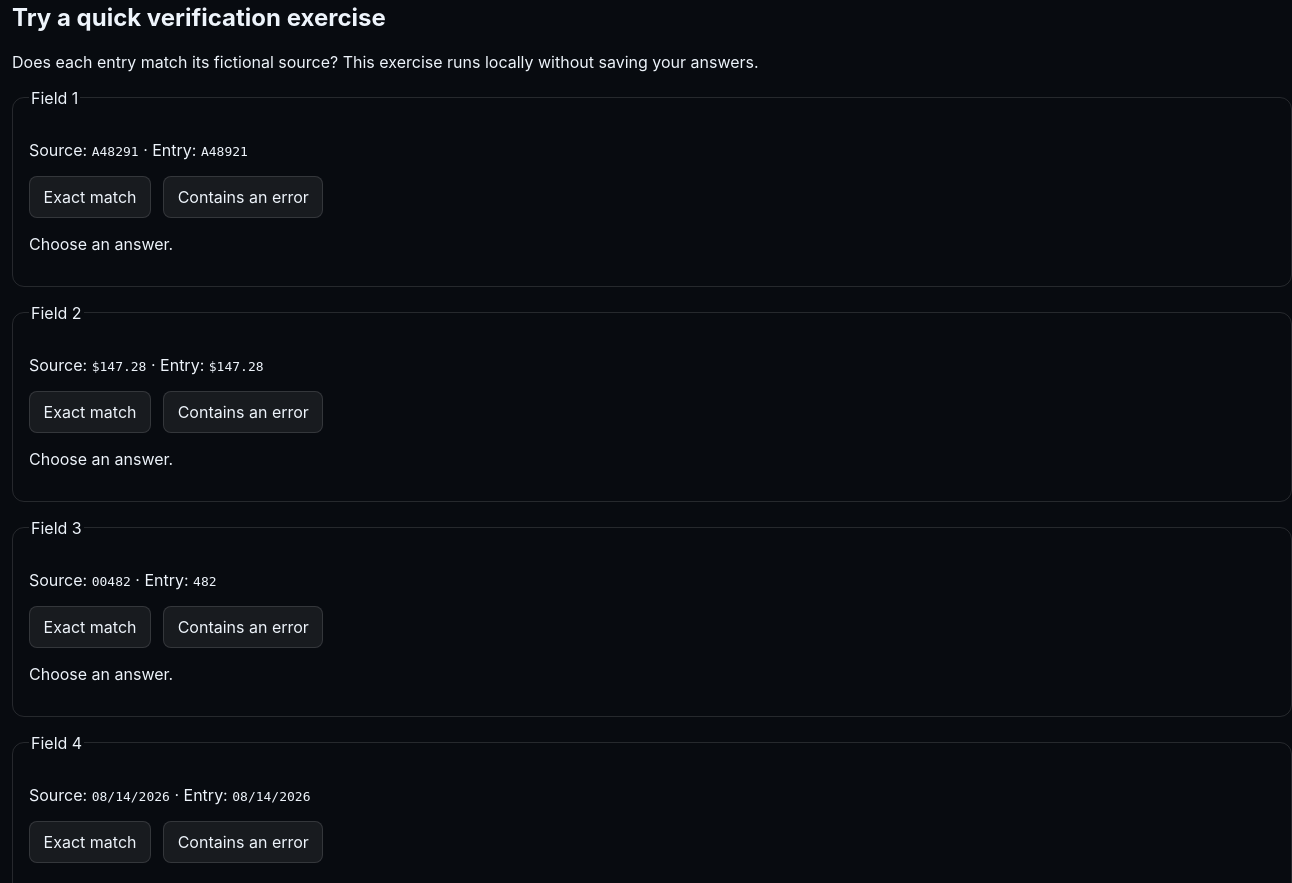
it: content and assessment flows › gives feedback and resets verification practice
Click the button "Contains an error" below "A48291" at (243, 197), box [163, 176, 324, 218]
(page scrolled)
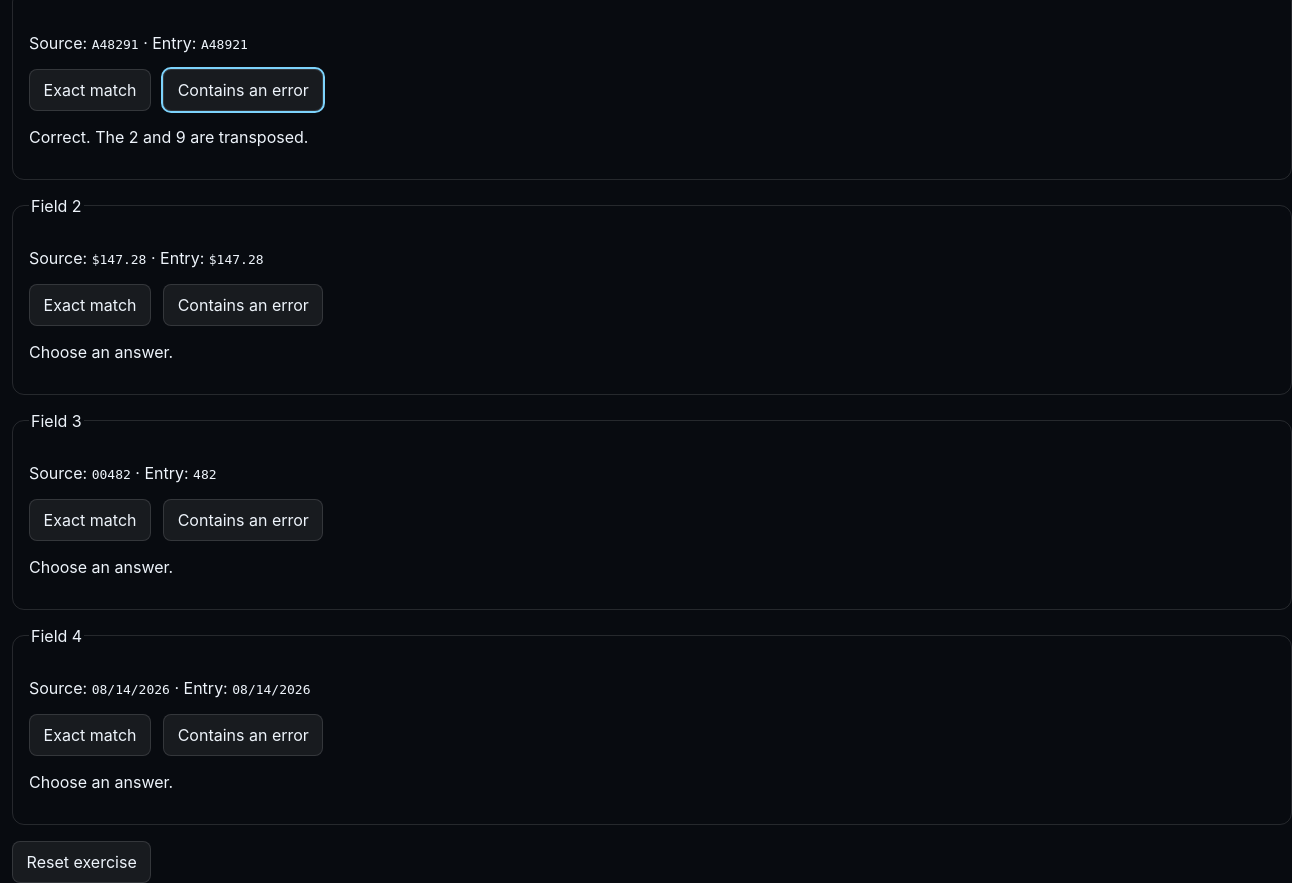
Now the element that starts with "Field" shows "Correct. The 2 and 9 are transposed.", box [29, 127, 308, 147]
Click the button "Reset exercise" at (82, 862), box [12, 841, 151, 882]
(page scrolled)
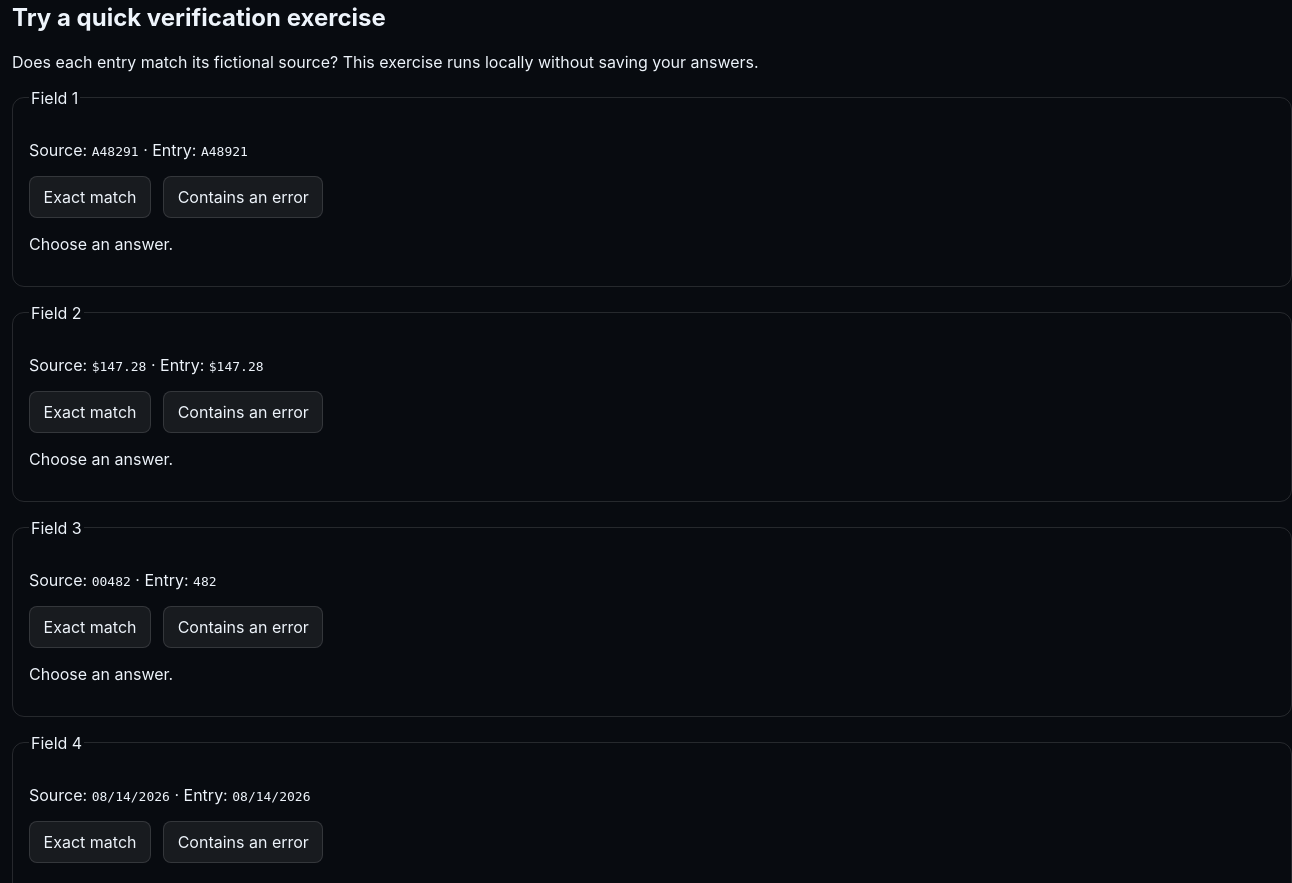
Now the element that starts with "Field" shows "Choose an answer.", box [29, 234, 173, 254]
